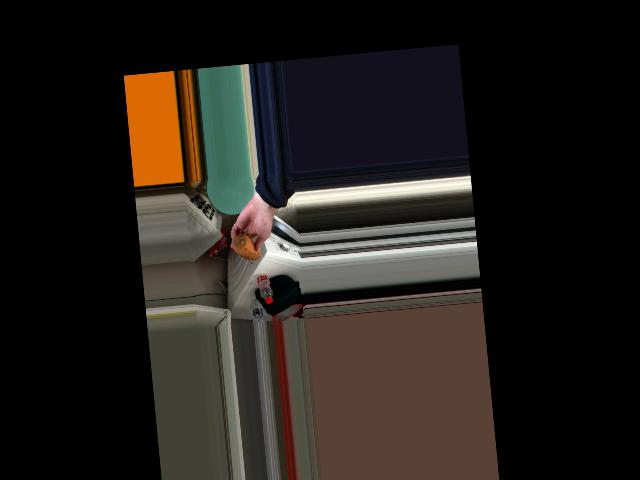sweet_potato: (234, 228, 264, 262)
